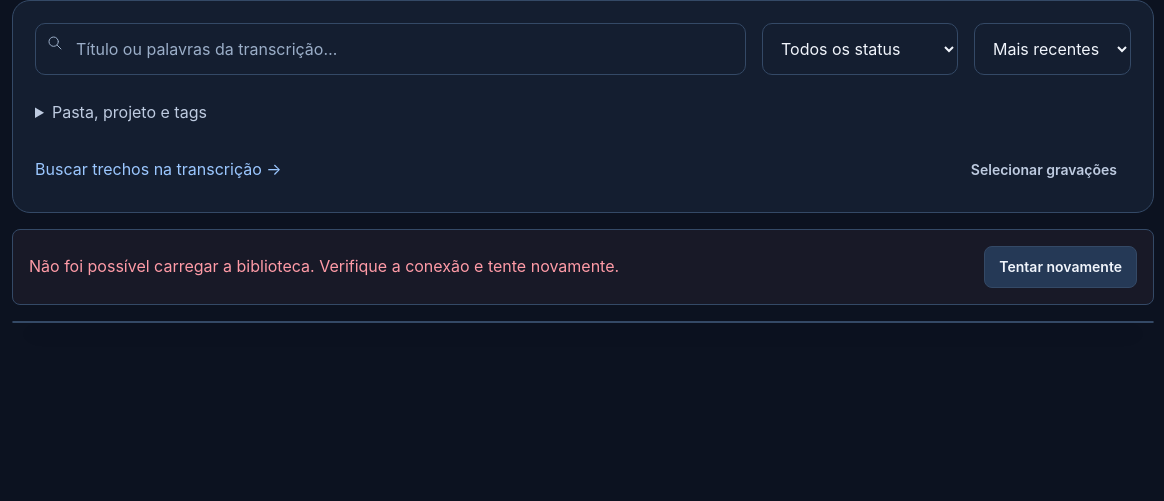
Test case: distinguishes a failed request from an empty library and recovers with retry
The image size is (1164, 501).
Expected: the message shows "Verifique a conexão", x1=29 y1=256 x2=619 y2=276
Expected: the text "Sua biblioteca começa com uma conversa" is not shown
Click the button "Tentar novamente" at (1061, 267), box x1=984 y1=246 x2=1137 y2=288
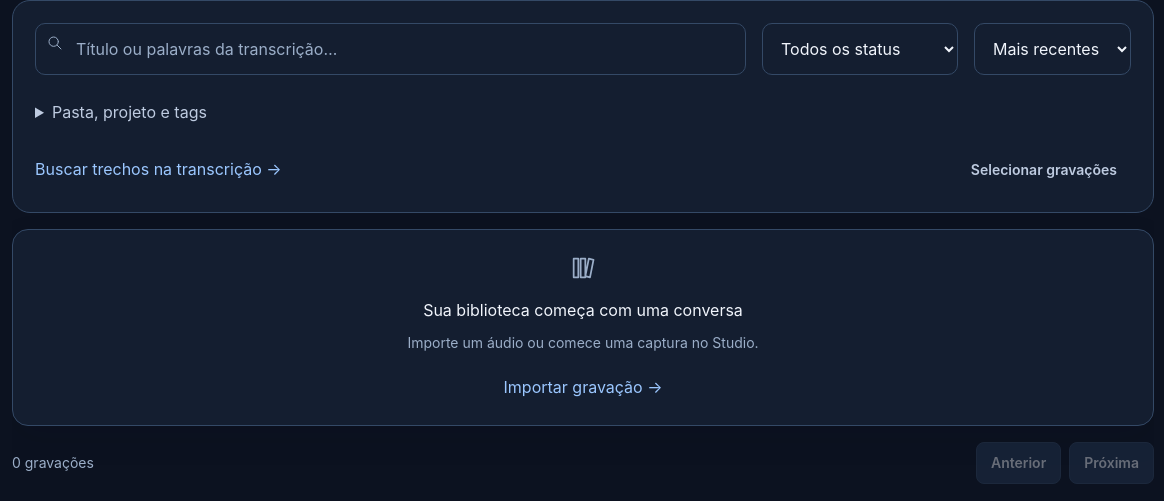
Now the text "Sua biblioteca começa com uma conversa" is shown, box x1=423 y1=298 x2=743 y2=323
